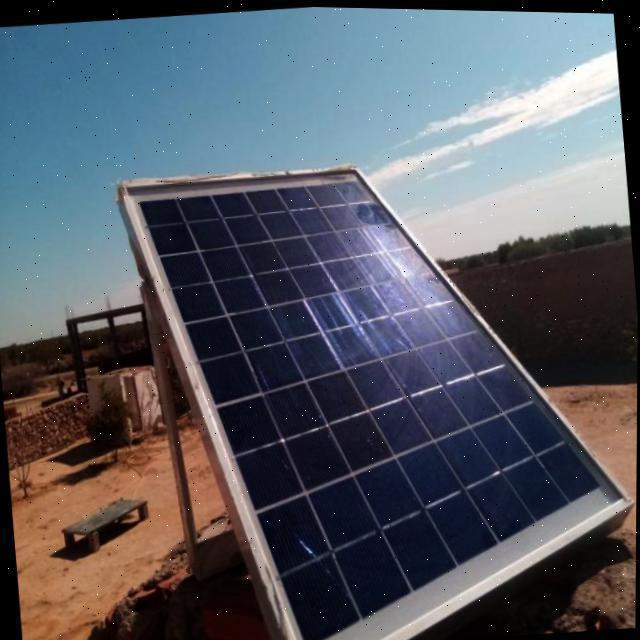Normal Solar Panel: (113, 131, 640, 640)
